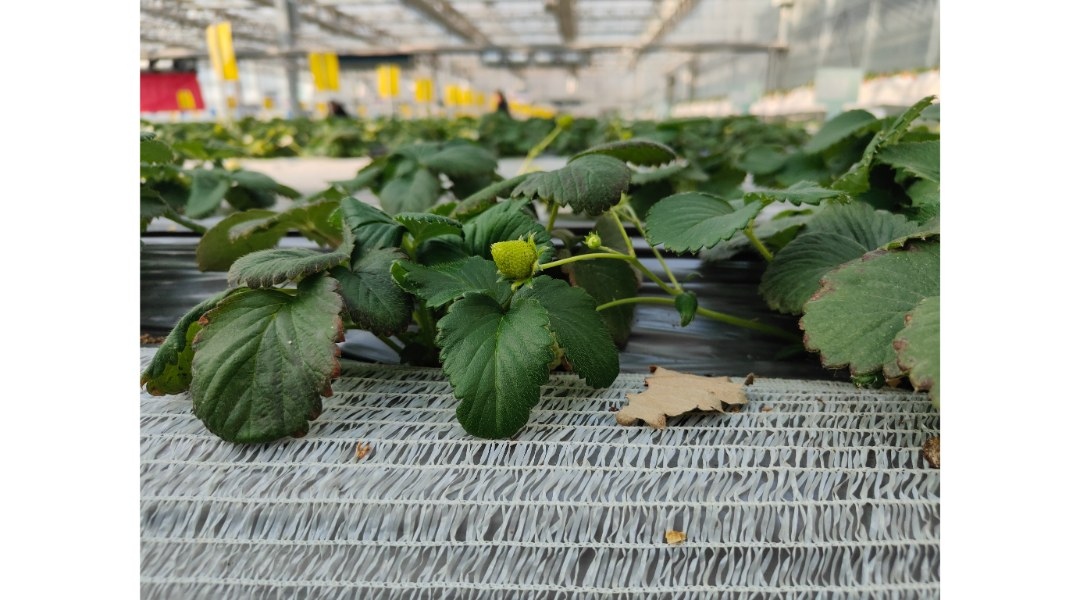berry: (484, 233, 542, 297)
strain: (711, 308, 785, 345), (545, 247, 624, 274), (595, 294, 674, 313)
